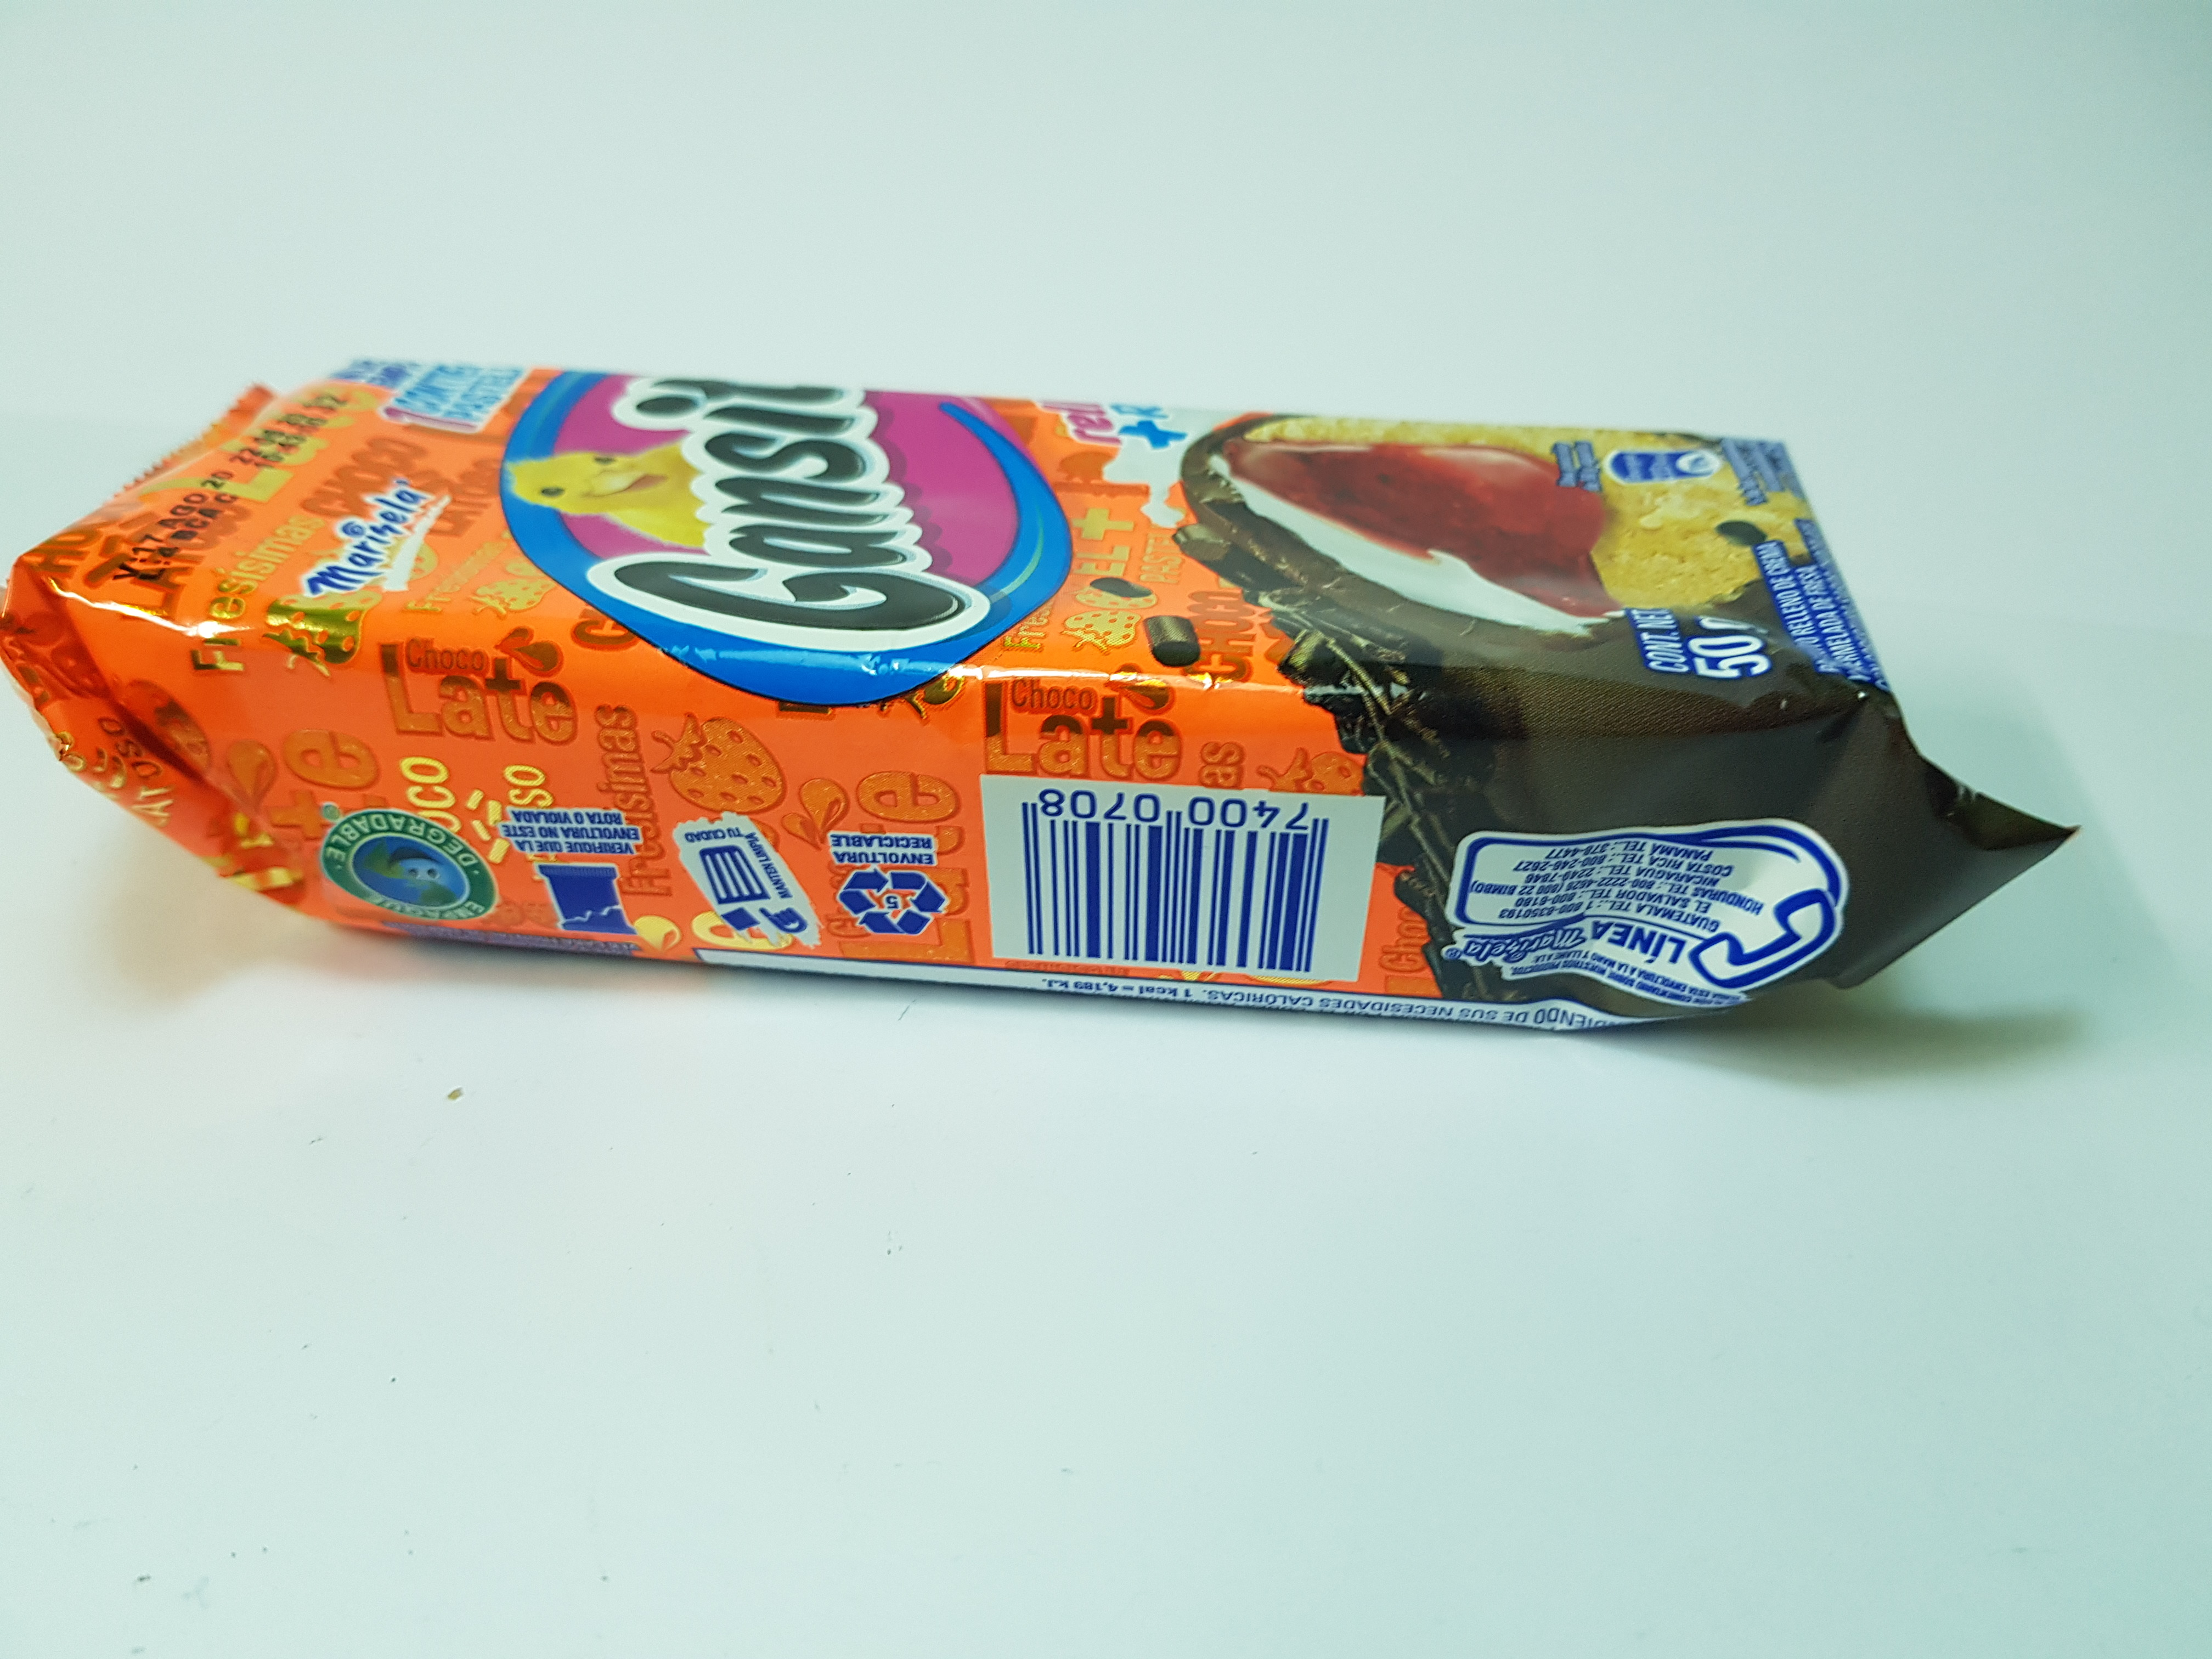gansito: (5, 331, 2081, 1061)
